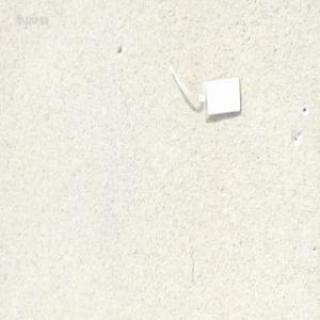LuggageTagtrack_idkeyframe: (165, 58, 242, 122)
